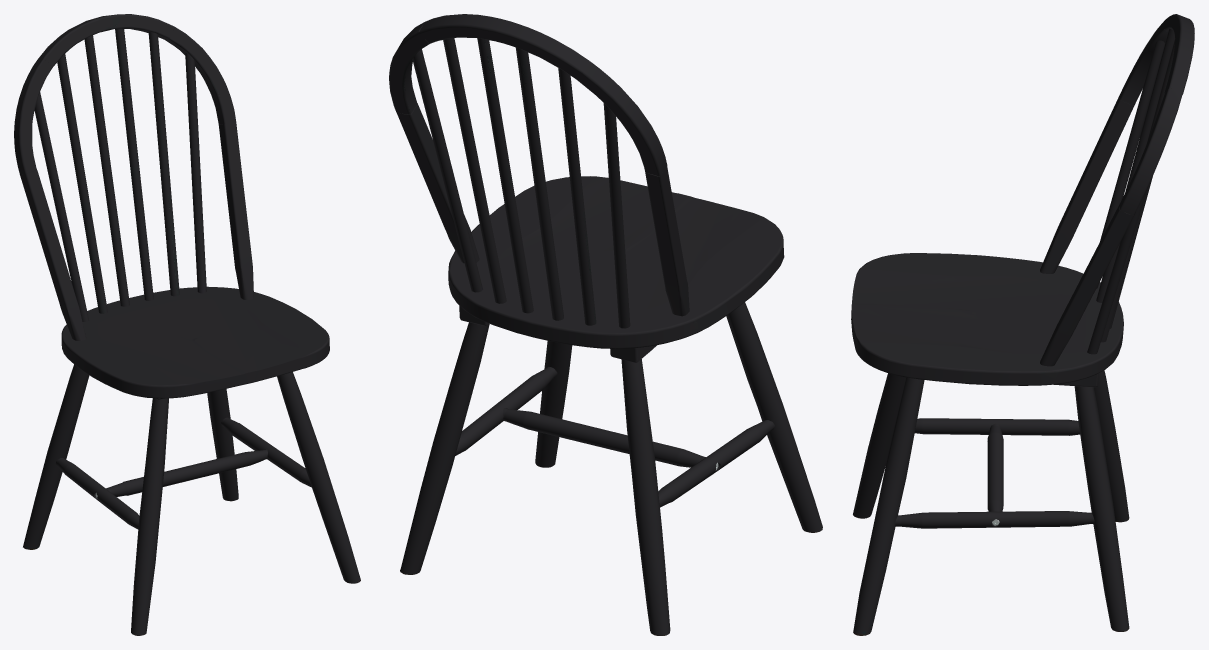
The model's file is 50544867-mini_parts.glb.
3 views of the same model, side by side, from view 1: azimuth 30°, elevation 25°; view 2: azimuth 150°, elevation 25°; view 3: azimuth 270°, elevation 25° (orthographic). The views are drawn at different scales.
Parts seen in each view (by area): view 1: Seat, Back bow, Leg front left, Leg front right, Leg back left, Spindle 3, Spindle 4, Spindle 5, Spindle 2, Spindle 6, Spindle 1, Cross stretcher (+3 smaller); view 2: Seat, Back bow, Leg back left, Leg back right, Leg front left, Spindle 3, Spindle 4, Spindle 5, Cross stretcher, Spindle 2, Spindle 6, Spindle 1 (+3 smaller); view 3: Seat, Back bow, Leg front right, Leg back right, Side stretcher right, Leg front left, Side stretcher left, Leg back left, Spindle 1, Spindle 2, Spindle 6, Cross stretcher (+1 smaller).
Part boxes in pixels (box(x1,y1,x2,y2)): Seat: box(61, 286, 329, 398); Back bow: box(14, 14, 253, 340); Leg front left: box(131, 398, 168, 635); Leg front right: box(277, 372, 360, 583); Leg back left: box(23, 364, 89, 549); Spindle 3: box(115, 28, 153, 300); Spindle 4: box(84, 35, 129, 306); Spindle 5: box(148, 32, 179, 296); Spindle 2: box(57, 54, 107, 313); Spindle 6: box(185, 53, 206, 293); Spindle 1: box(34, 92, 88, 321); Cross stretcher: box(106, 449, 267, 496); Seat: box(448, 176, 784, 348); Back bow: box(389, 14, 689, 316); Leg back left: box(621, 359, 670, 635); Leg back right: box(400, 322, 489, 574); Leg front left: box(726, 302, 822, 532); Spindle 3: box(477, 38, 533, 313); Spindle 4: box(515, 47, 563, 320); Spindle 5: box(443, 38, 506, 303); Cross stretcher: box(503, 408, 705, 467); Spindle 2: box(558, 68, 596, 325); Spindle 6: box(412, 49, 482, 292); Spindle 1: box(603, 103, 630, 328); Seat: box(851, 253, 1123, 385); Back bow: box(1040, 14, 1194, 366); Leg front right: box(853, 377, 924, 635); Leg back right: box(1074, 386, 1129, 631); Side stretcher right: box(895, 511, 1094, 528); Leg front left: box(853, 373, 905, 518); Side stretcher left: box(914, 418, 1080, 435); Leg back left: box(1094, 370, 1129, 522); Spindle 1: box(1096, 40, 1165, 289); Spindle 2: box(1096, 28, 1174, 302); Spindle 6: box(1087, 186, 1148, 354); Cross stretcher: box(987, 423, 1003, 511).
Bounding box in the file's own units: 0.4638 × 0.9434 × 0.5385.
Materials: 1 (1 with a texture image).
